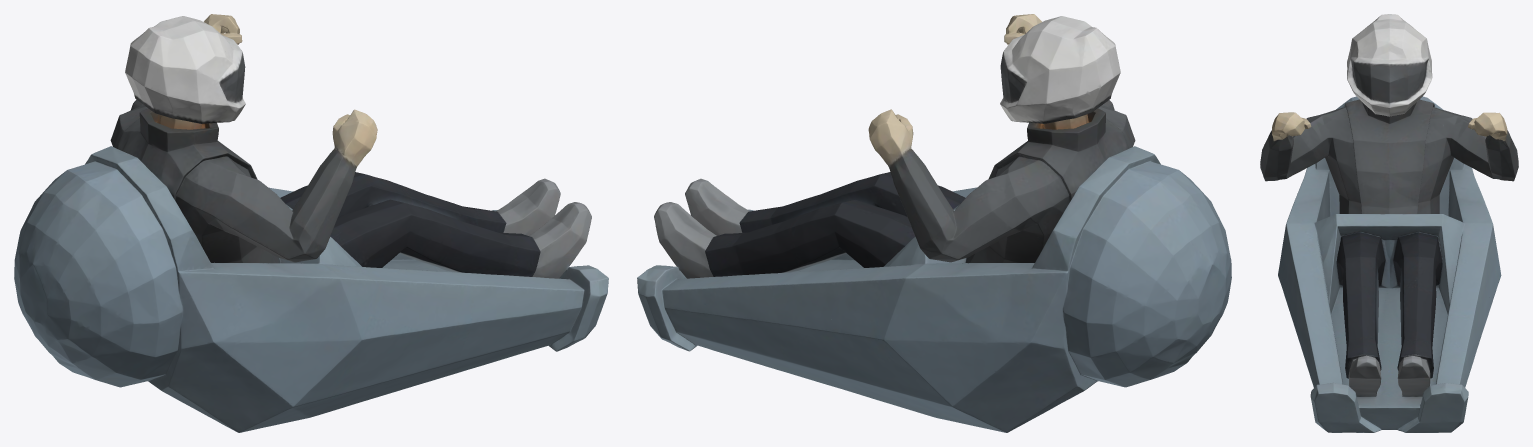
File: pilot.glb
3 renders of one model, left to right at view 1: azimuth 30°, elevation 25°; view 2: azimuth 150°, elevation 25°; view 3: azimuth 270°, elevation 25°, orthographic. The views are drawn at different scales.
Visible parts, largest first — view 1: tripo_node_9cb75640-8528-4ba4-81e9-67f4a078d3df; view 2: tripo_node_9cb75640-8528-4ba4-81e9-67f4a078d3df; view 3: tripo_node_9cb75640-8528-4ba4-81e9-67f4a078d3df.
Part boxes in pixels (x1=…): tripo_node_9cb75640-8528-4ba4-81e9-67f4a078d3df: x1=14, y1=14, x2=608, y2=432; tripo_node_9cb75640-8528-4ba4-81e9-67f4a078d3df: x1=637, y1=14, x2=1231, y2=432; tripo_node_9cb75640-8528-4ba4-81e9-67f4a078d3df: x1=1260, y1=14, x2=1518, y2=432.
Bounding box in the file's own units: 1 × 0.6743 × 0.5602.
Materials: 1 (1 with a texture image).
